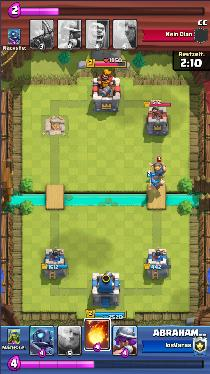ally_knight: (148, 176, 164, 190)
enemy_knight: (149, 161, 167, 179)
